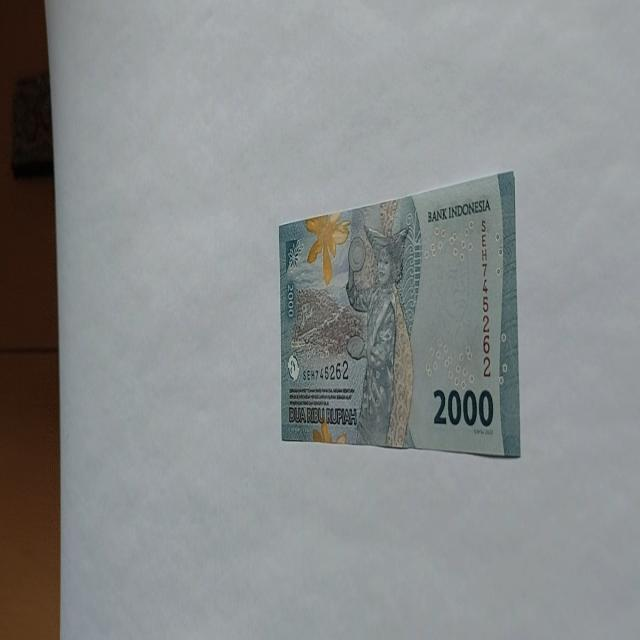dua ribu rupiah: (278, 169, 520, 458), (344, 197, 422, 447), (304, 211, 351, 286)
